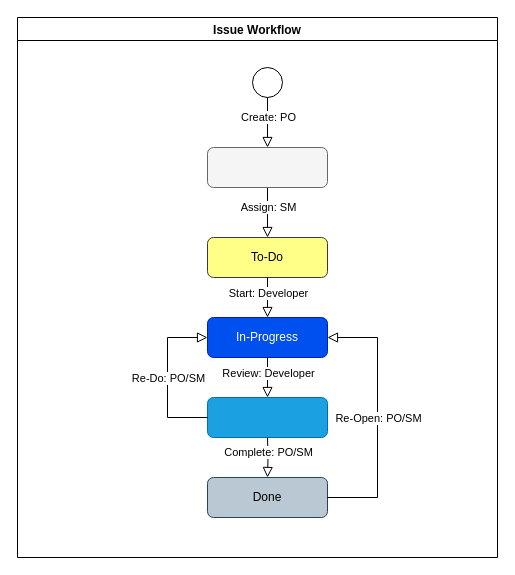
The diagram is 515 pixels wide and 575 high, and some of its shapes have lost their labels. Each missing label, with the centre of its shape:
Backlog: pixel 267 167
In-Review: pixel 267 417
